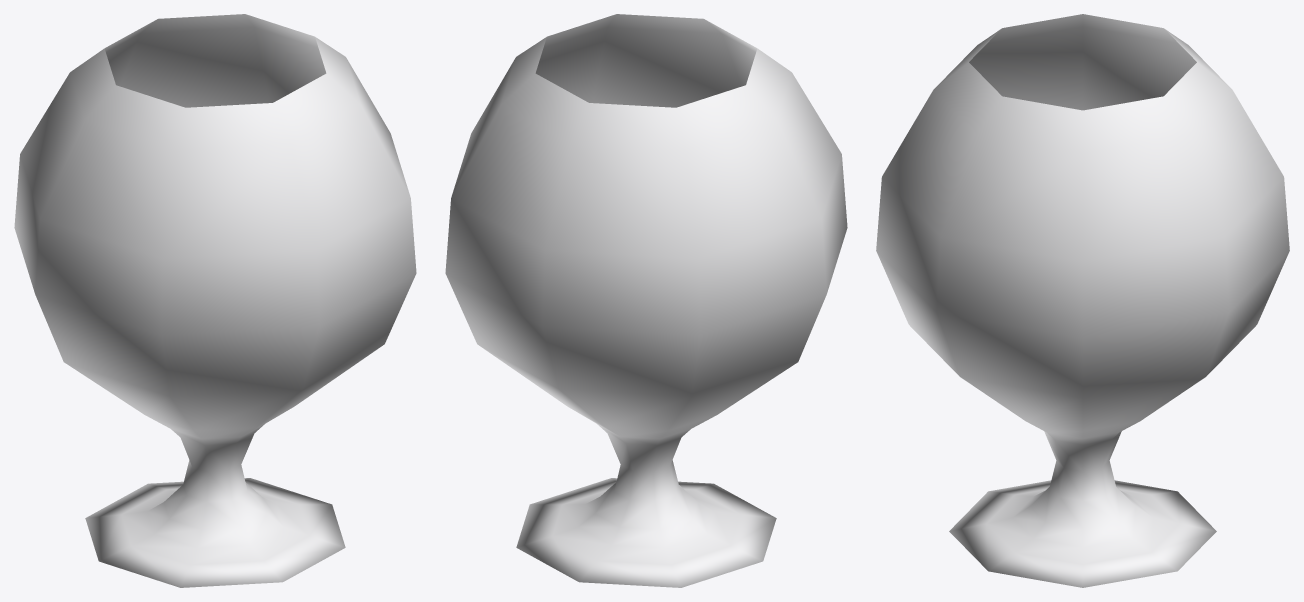
The model's file is glass_cognac.glb.
3 views of the same model, side by side, from view 1: azimuth 30°, elevation 25°; view 2: azimuth 150°, elevation 25°; view 3: azimuth 270°, elevation 25° (orthographic).
Parts seen in each view (by area): view 1: sercups_cognac_balloon_Cylinder.105; view 2: sercups_cognac_balloon_Cylinder.105; view 3: sercups_cognac_balloon_Cylinder.105.
Boxes of the visible parts, x1=… form: sercups_cognac_balloon_Cylinder.105: x1=14, y1=14, x2=416, y2=587; sercups_cognac_balloon_Cylinder.105: x1=445, y1=14, x2=847, y2=587; sercups_cognac_balloon_Cylinder.105: x1=876, y1=14, x2=1289, y2=587.
Bounding box in the file's own units: 2.21 × 2.8 × 2.21.
1 material, 1 textured.
